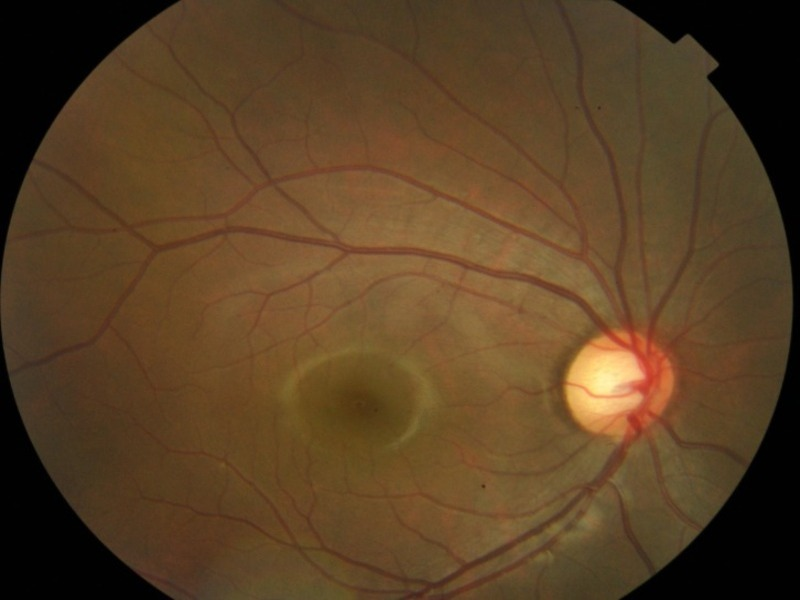Optic Cup: (583, 349, 643, 411)
Optic Disc: (560, 327, 676, 440)
